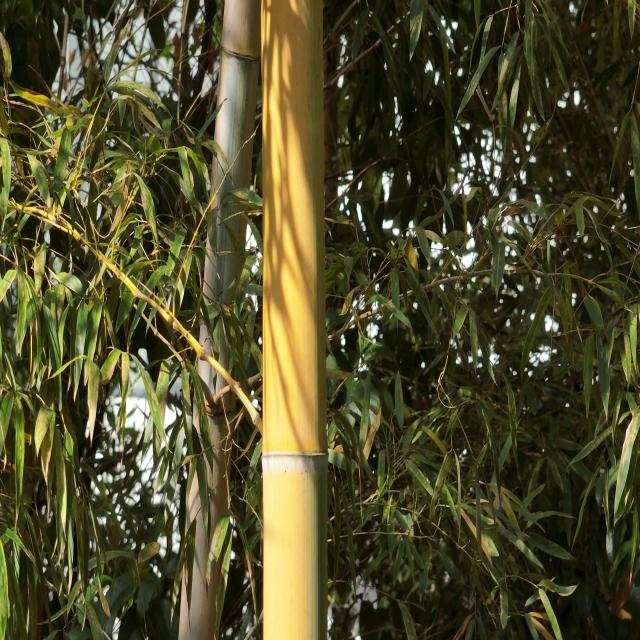Bamboo-shoots: (262, 0, 326, 640)
